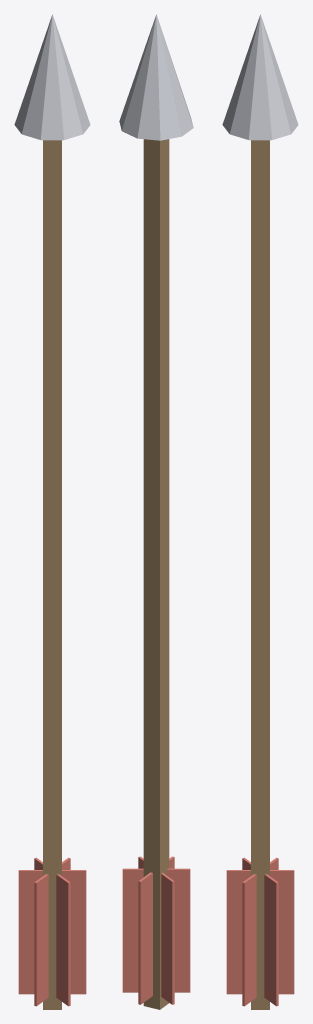
Rendered from arrow.glb.
3 views of the same model, side by side, from view 1: azimuth 90°, elevation 25°; view 2: azimuth 150°, elevation 25°; view 3: azimuth 270°, elevation 25° (orthographic).
Parts seen in each view (by area): view 1: arrow; view 2: arrow; view 3: arrow.
Part boxes in pixels (x1,y1,x2,y2): arrow: [14, 14, 90, 1009]; arrow: [119, 14, 193, 1009]; arrow: [222, 14, 298, 1009].
Size of the model in its own units: 0.0533 by 0.805 by 0.056.
